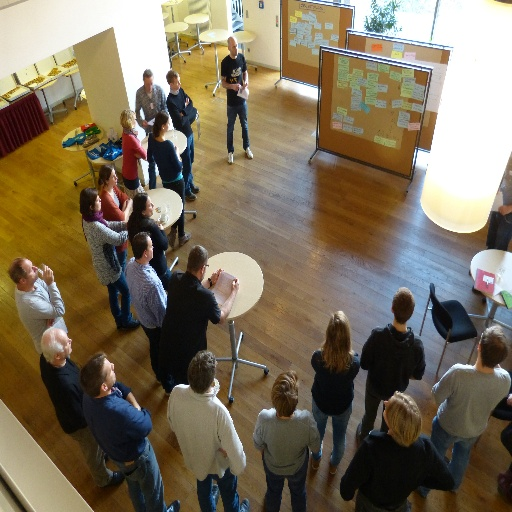hand: (202, 275, 240, 327), (40, 263, 53, 283), (210, 265, 222, 285), (46, 318, 56, 329), (184, 95, 190, 107), (126, 197, 133, 206), (141, 119, 148, 128), (234, 83, 241, 92), (157, 223, 164, 231), (242, 83, 247, 88)
